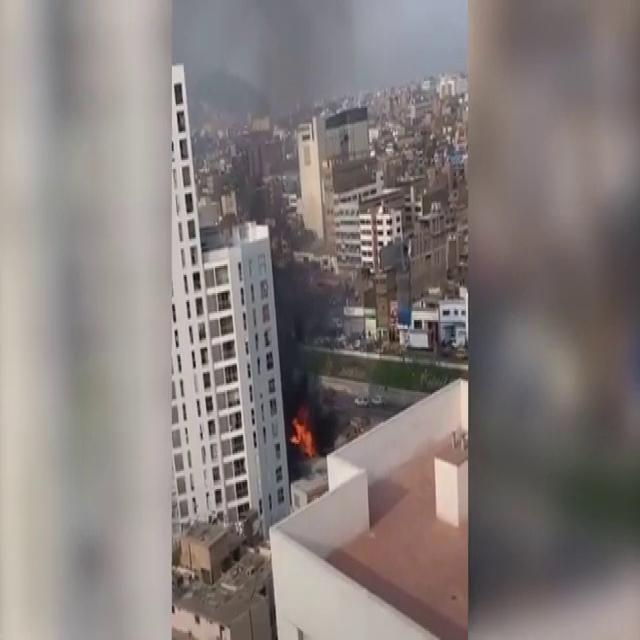Fire: (287, 412, 318, 458)
Smoke: (186, 12, 362, 108)
